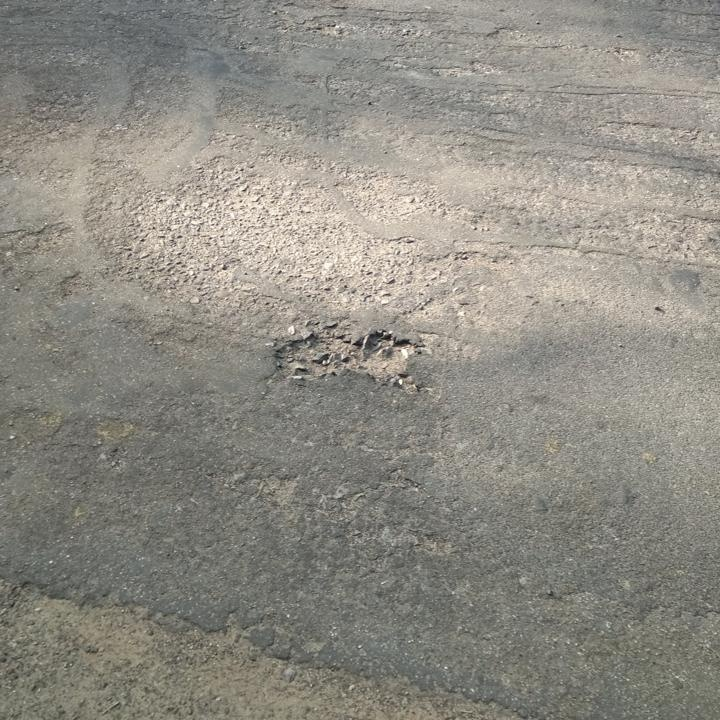pothole: (0, 576, 560, 719), (274, 324, 427, 389)
